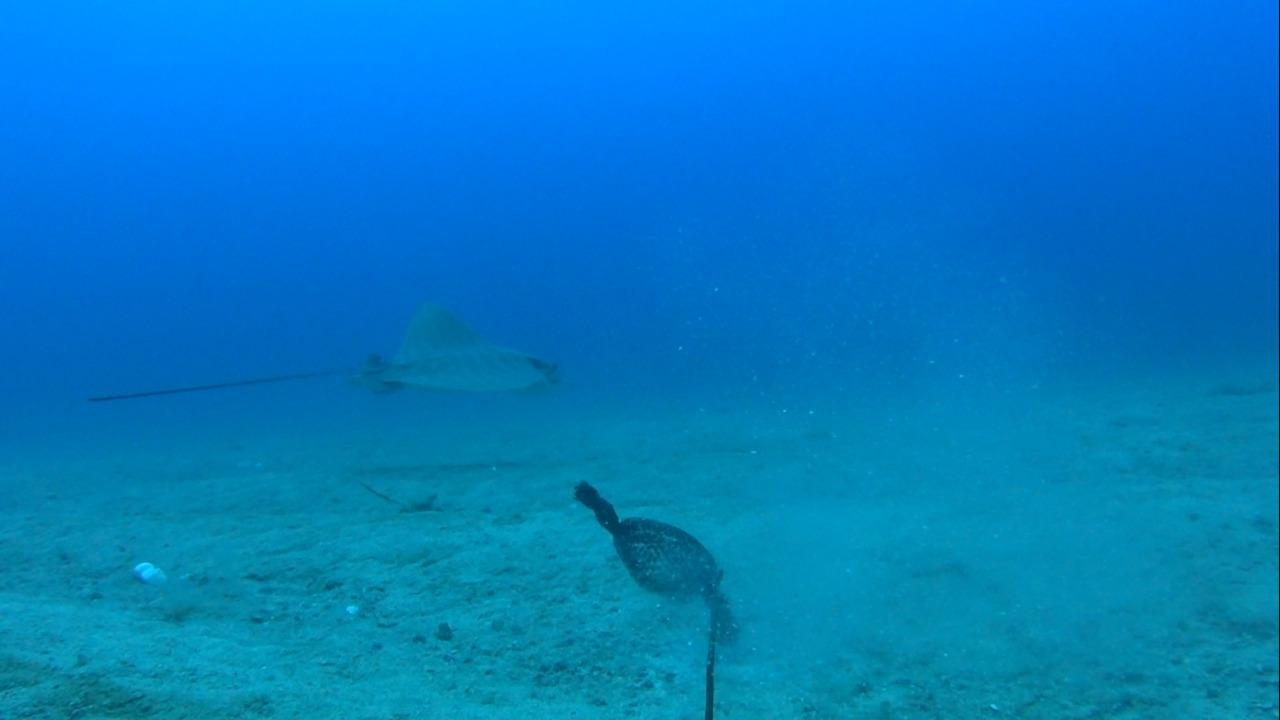myliobatis: (82, 297, 570, 412)
